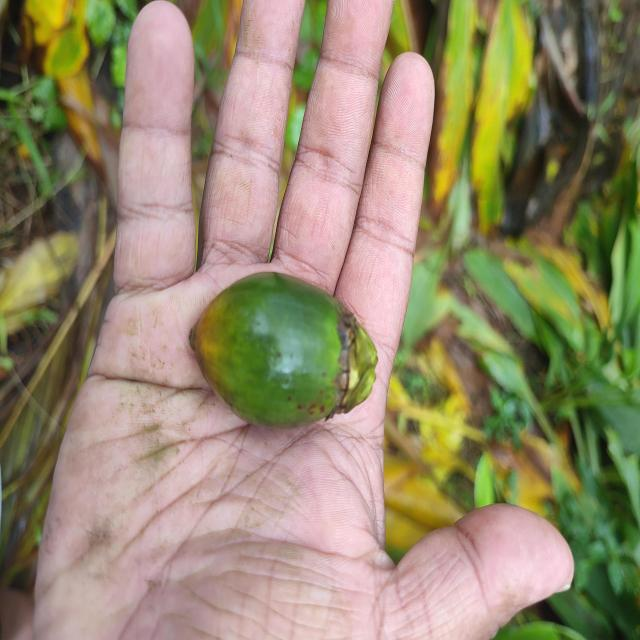damaged: (187, 272, 378, 429)
